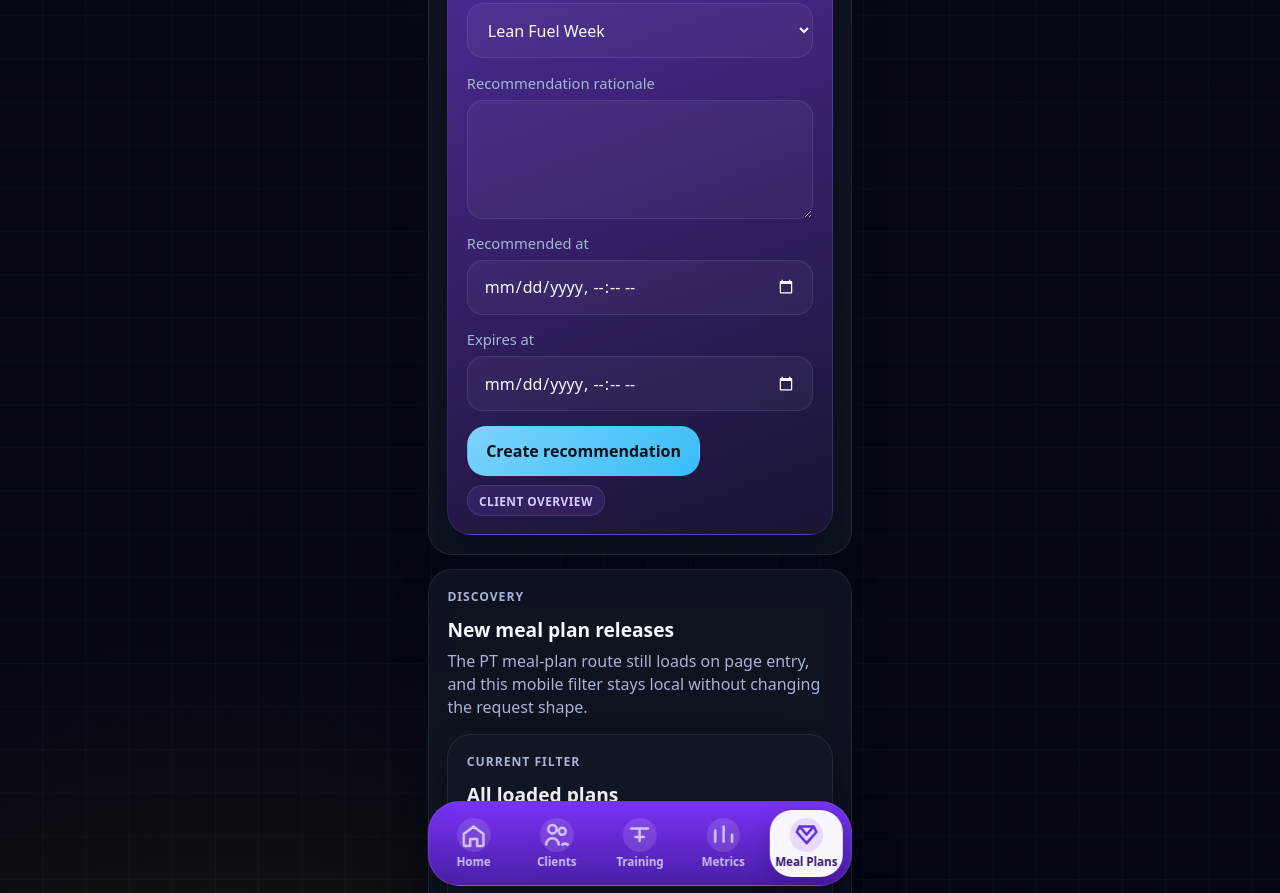
PTRecommendMealPlanPage mobile experience › preserves recommendation error feedback from the existing create route
(page scrolled)
What coordinates should you click on to do the following:
click the button "Create recommendation"
I would click on:
 (584, 451)
Its box is [467,426,700,476].
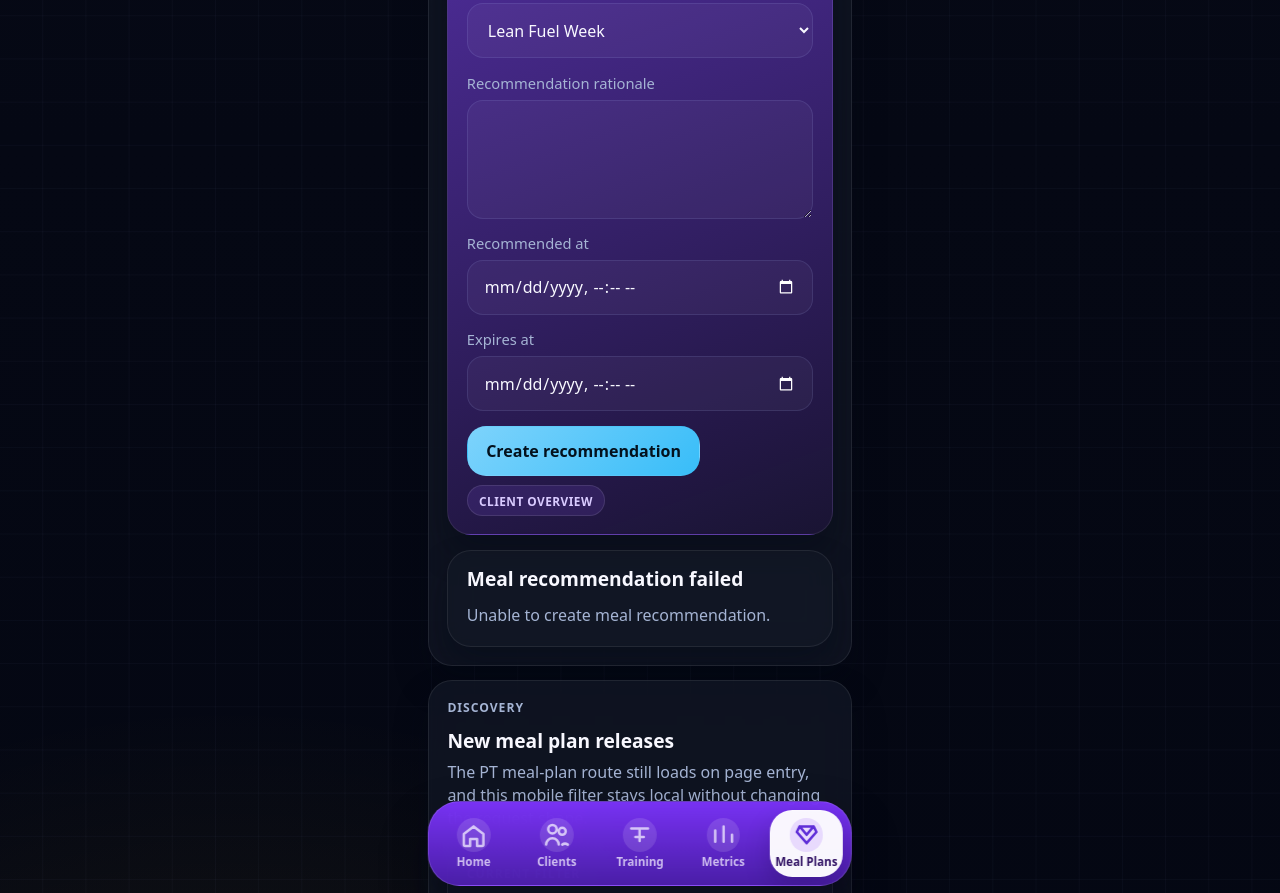
Check: the text "Unable to create meal recommendation." is shown, box [467,604,813,627]
